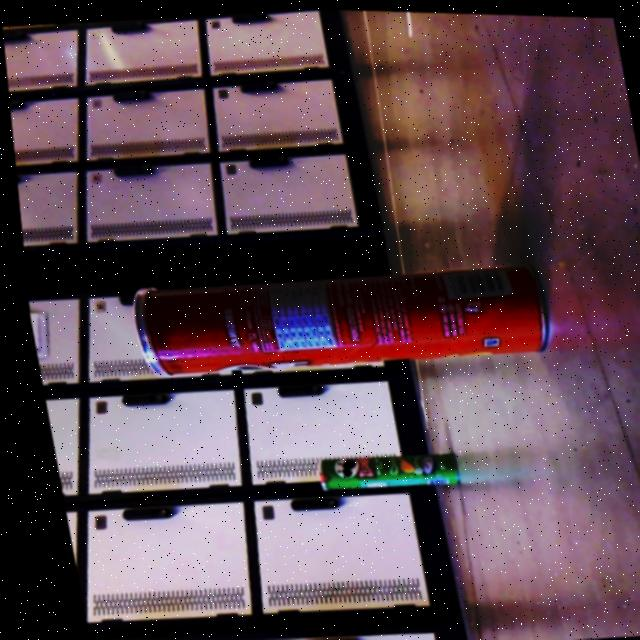greenpringles: (280, 422, 467, 522)
redpringles: (103, 223, 560, 428)
